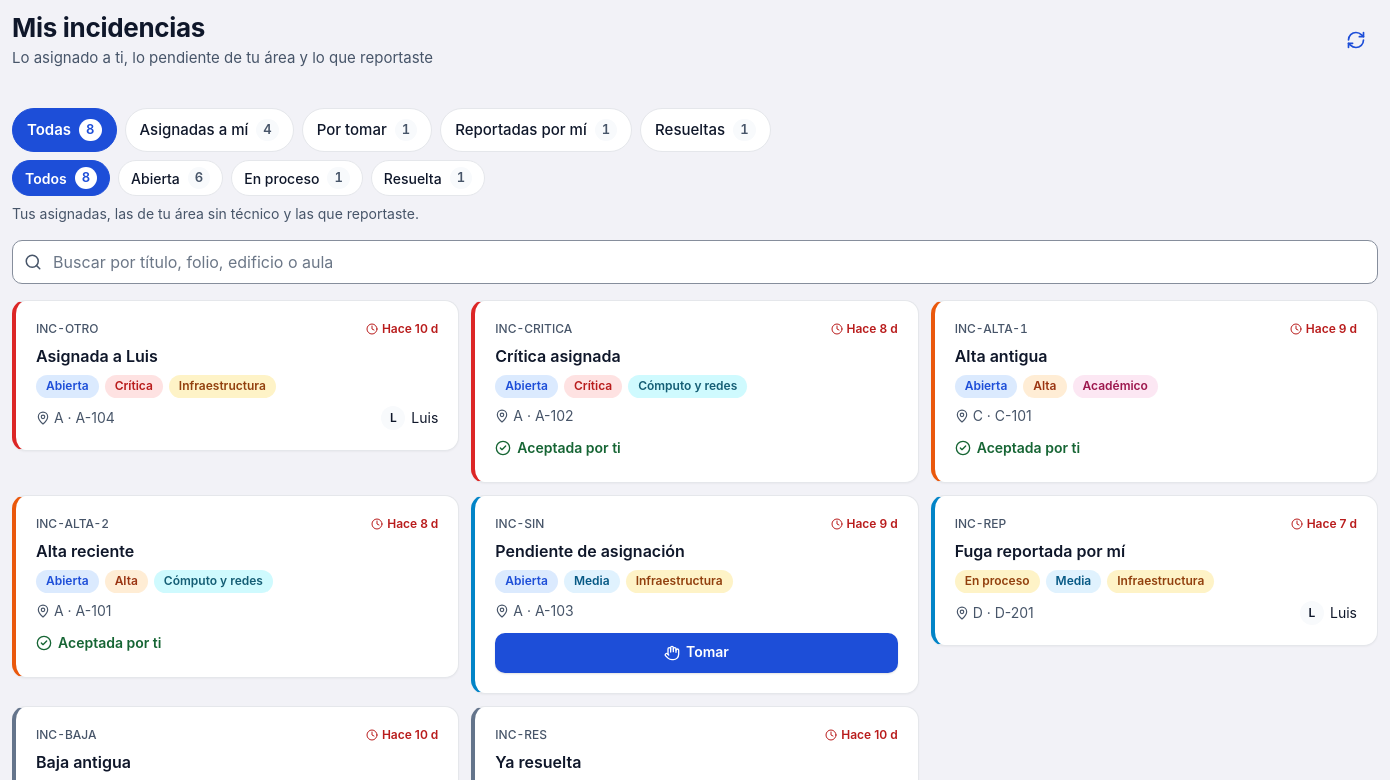
Test: Mis incidencias del técnico (T-050) › cada filtro filtra de verdad y queda en la URL
Expected: the link "Crítica asignada" is shown, 495,346 -> 621,366
Click the radio button labelled "Por tomar 1".
click(367, 130)  # box 302,108 -> 432,152
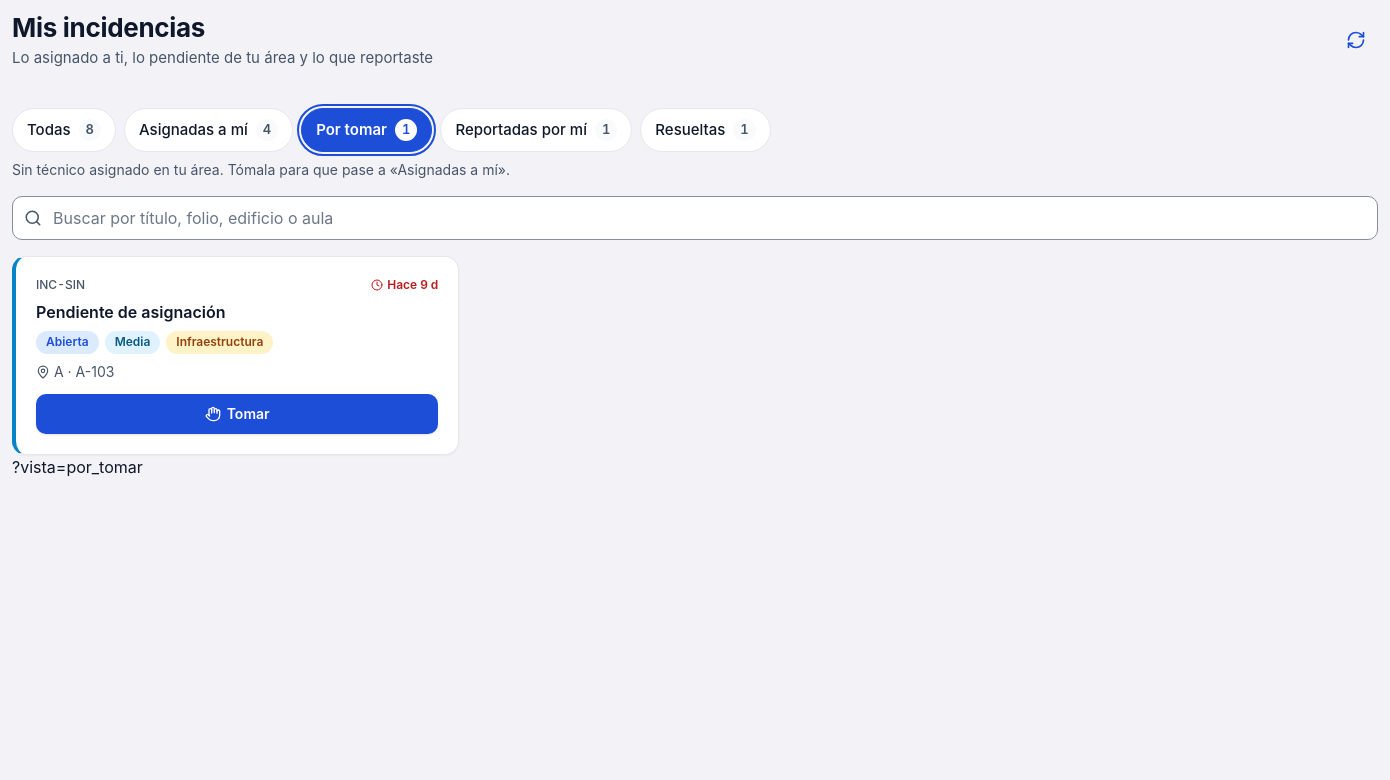
Expected: the button with aria-label "Tomar INC-SIN" is shown, 36,394 -> 438,434
Now the text with test id "url" reads "?vista=por_tomar", box 12,457 -> 143,477
Click the radio button labelled "Reportadas por mí 1".
click(536, 130)  # box 440,108 -> 632,152
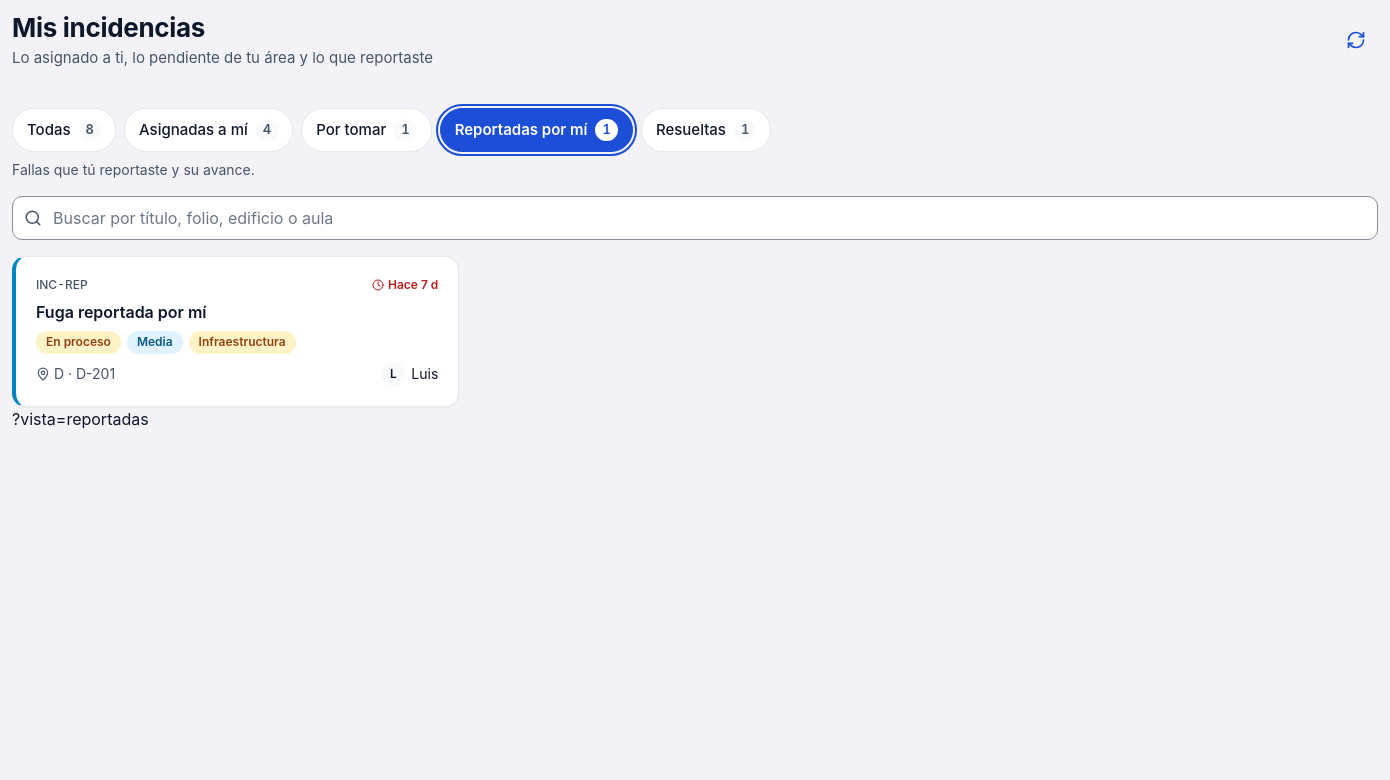
Now the text "Luis" is shown, box 411,365 -> 438,382
Now the text with test id "url" reads "?vista=reportadas", box 12,409 -> 149,429
Click the radio button labelled "Resueltas 1".
click(706, 130)  # box 641,108 -> 771,152
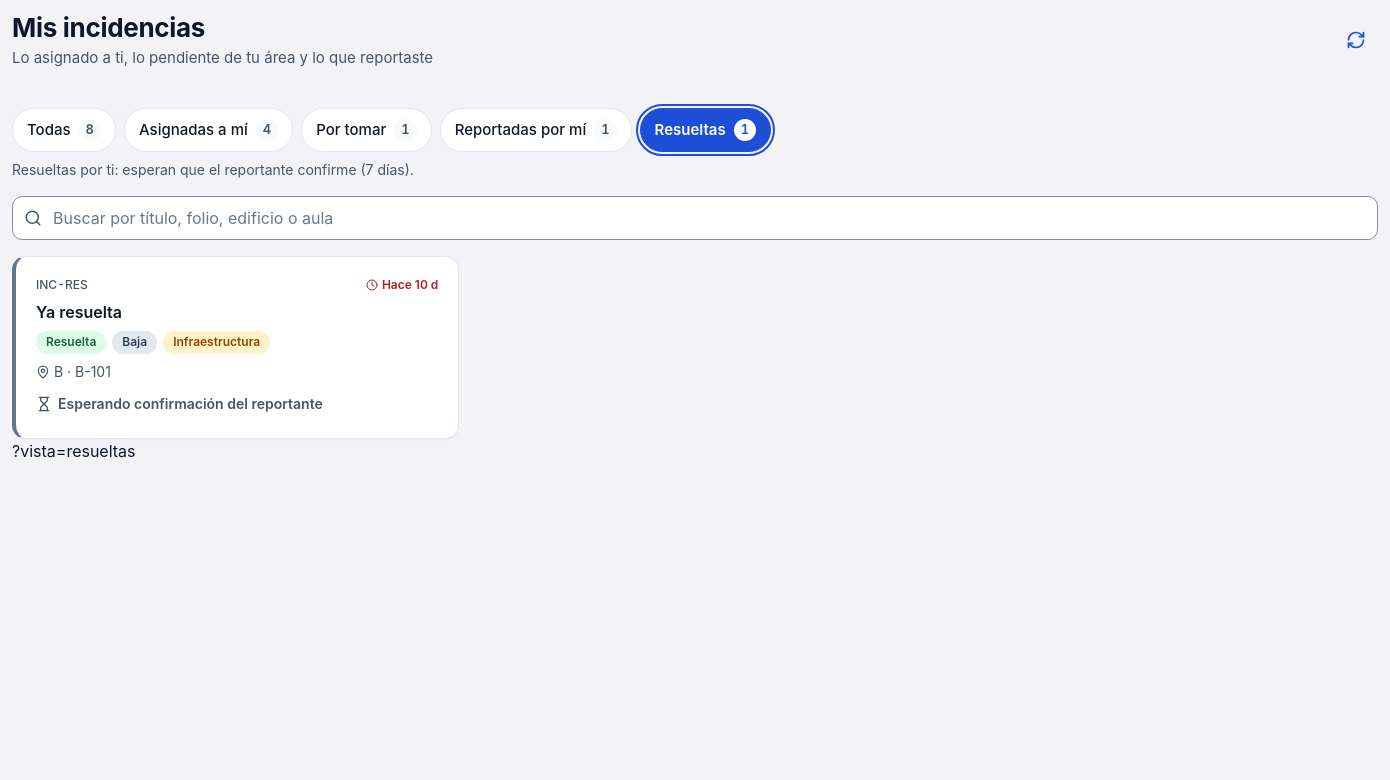
Now the text "Esperando confirmación del reportante" is shown, box 36,394 -> 323,414
Click the radio button labelled "Asignadas a mí 4".
click(209, 130)  # box 124,108 -> 293,152
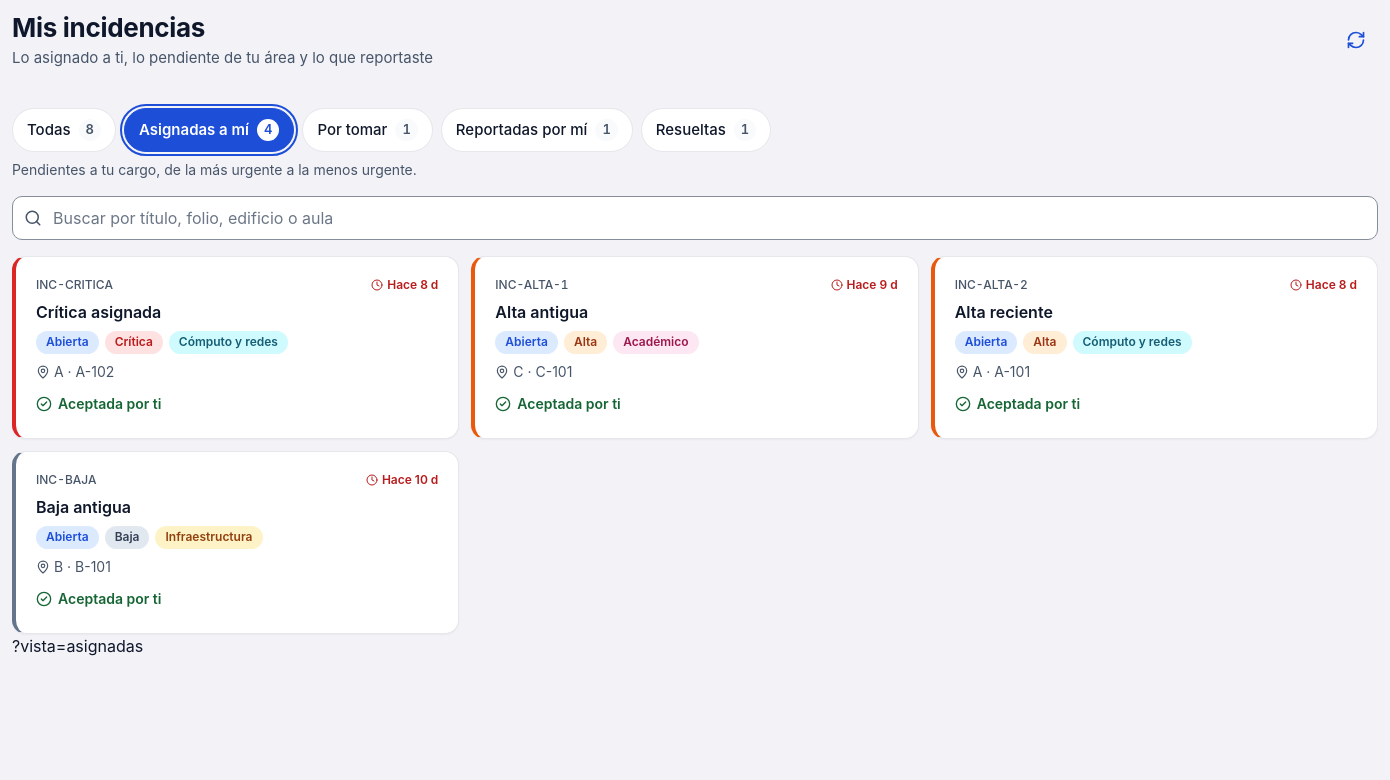
Expected: the link "Asignada a Luis" is not shown
Now the number of links is 4, box 36,302 -> 161,322; 495,302 -> 588,322; 955,302 -> 1053,322; 36,497 -> 131,517
Now the link "Ya resuelta" is gone
Click the radio button labelled "Todas 8".
click(64, 130)  # box 12,108 -> 116,152
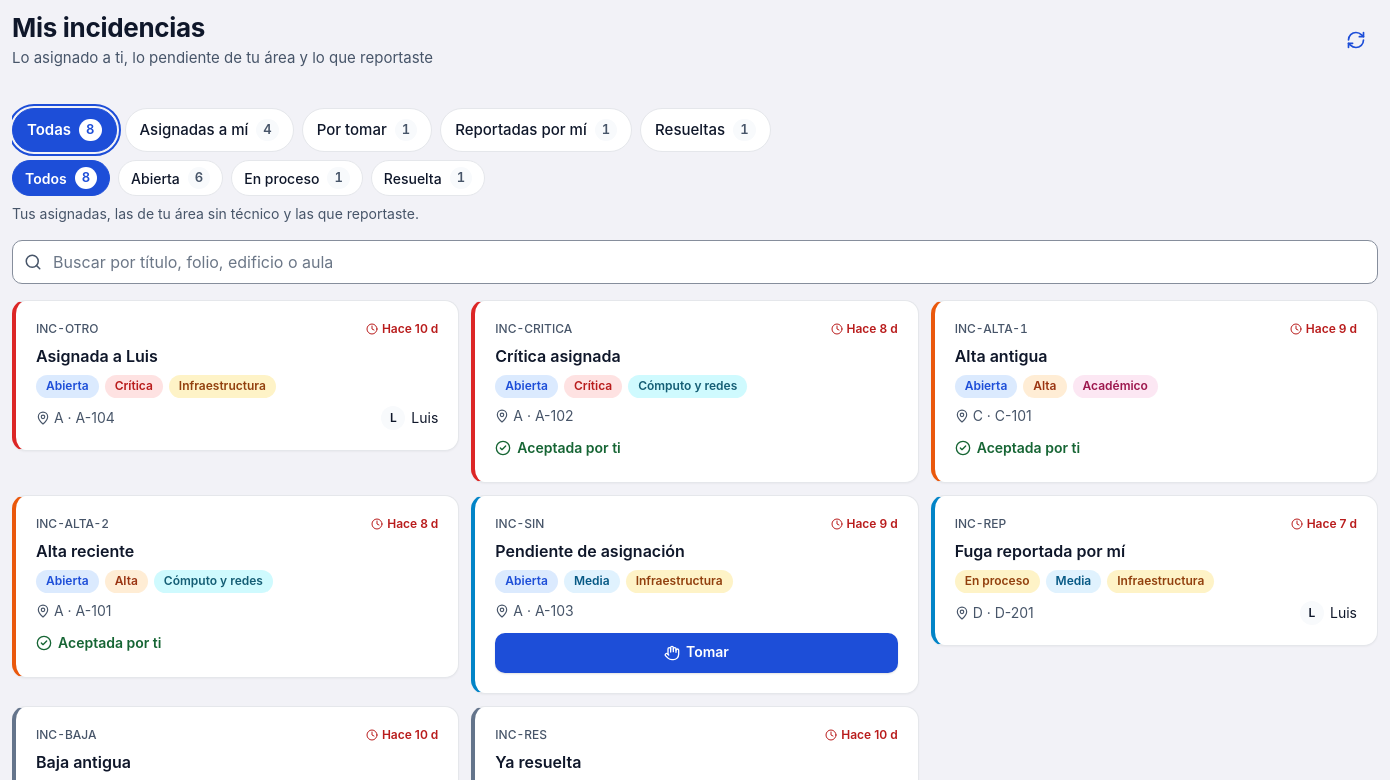
Now the number of links is 8
